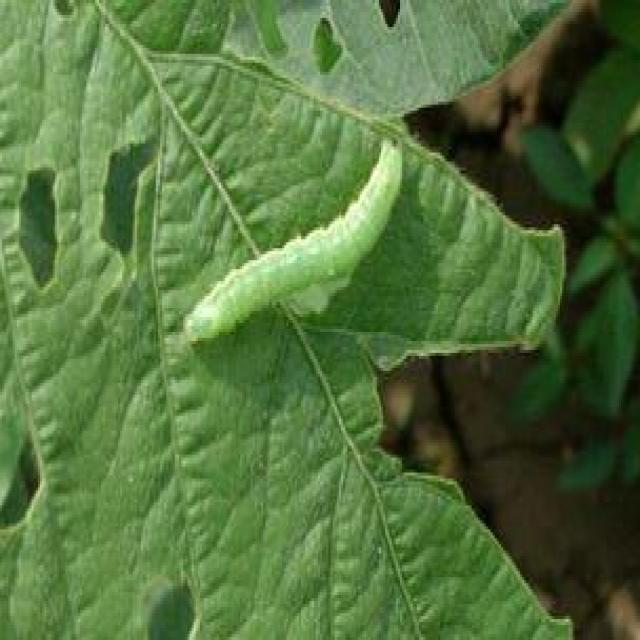BeetArmyWorm-Larva-: (179, 134, 407, 352)
